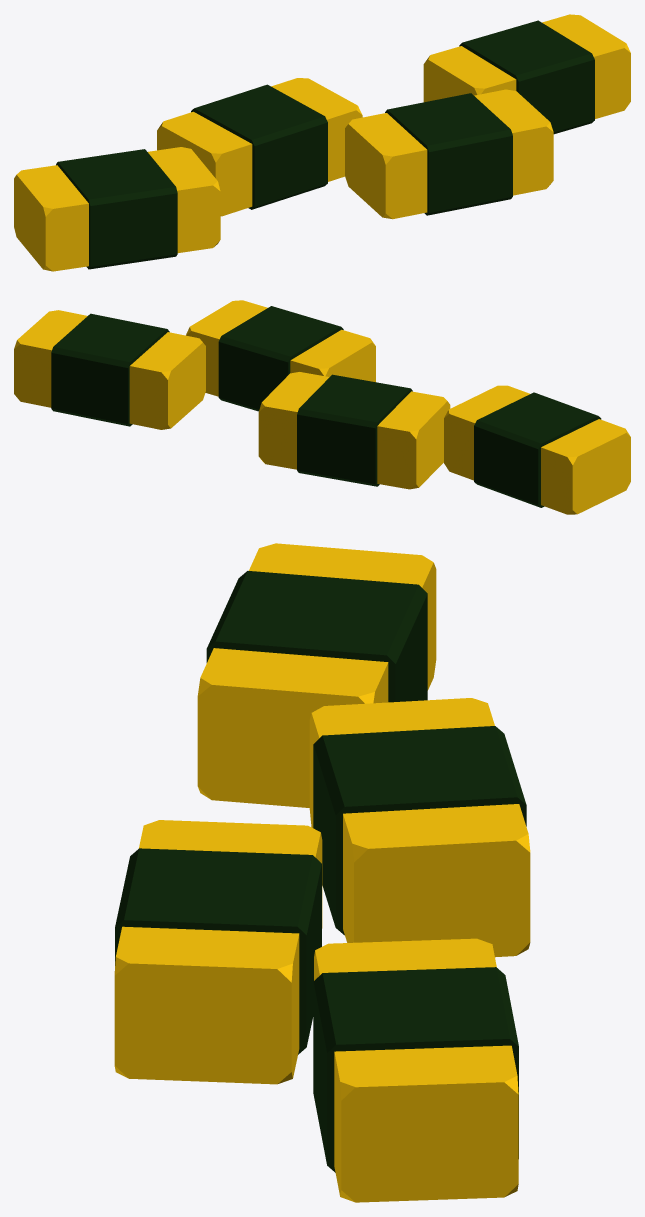
File: Objet Grange#3.FBX
3 renders of one model, top to bottom at view 1: azimuth 30°, elevation 25°; view 2: azimuth 150°, elevation 25°; view 3: azimuth 270°, elevation 25°, orthographic. The views are drawn at different scales.
Visible parts, largest first — view 1: Carré de foin Grange01; view 2: Carré de foin Grange01; view 3: Carré de foin Grange01.
Boxes of the visible parts, bbox=[...] form: Carré de foin Grange01: bbox=[14, 14, 630, 271]; Carré de foin Grange01: bbox=[14, 300, 630, 514]; Carré de foin Grange01: bbox=[114, 543, 530, 1202].
Size of the model in its own units: 281 by 30.9 by 90.51.
